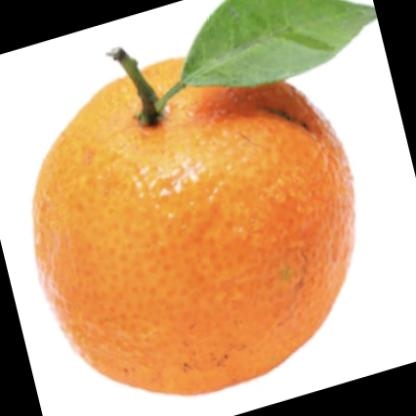fresh: (34, 57, 356, 397)
